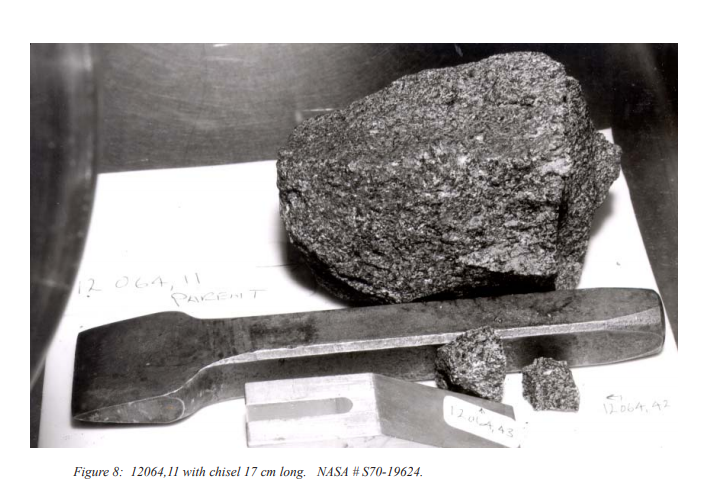Basalt: (260, 41, 636, 286), (432, 334, 589, 402)
